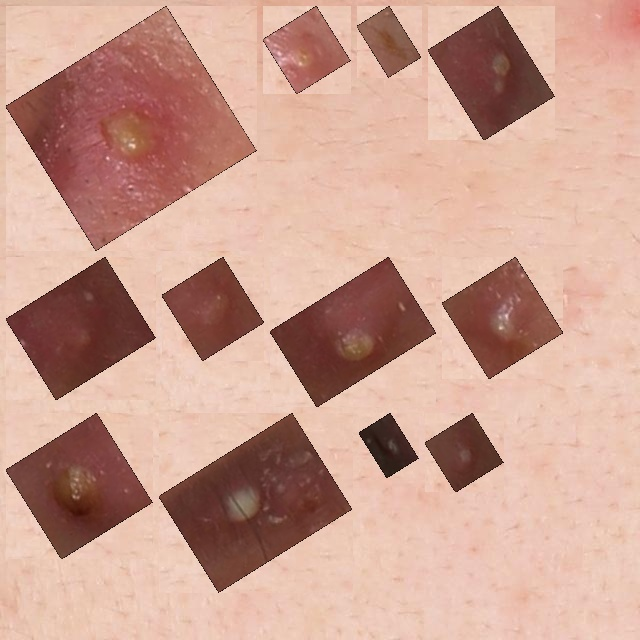melasma: (368, 17, 410, 66)
pustule: (17, 17, 245, 239), (170, 424, 341, 581), (281, 268, 425, 396), (17, 268, 145, 389), (17, 424, 141, 548), (439, 17, 544, 129), (453, 268, 552, 368), (173, 268, 253, 349), (274, 17, 339, 83), (436, 424, 492, 481), (370, 424, 407, 467)
